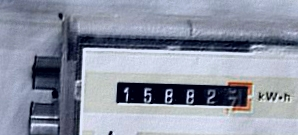1: (121, 85, 131, 102)
2: (205, 87, 216, 104)
5: (142, 86, 153, 102)
7: (227, 95, 237, 106)
8: (184, 87, 195, 105), (163, 88, 174, 104)
screen: (109, 73, 258, 117)
